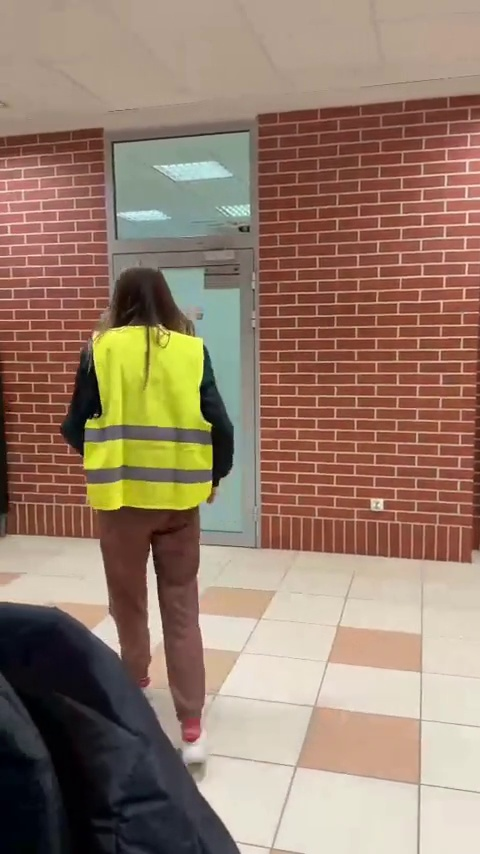vest: (52, 267, 236, 768)
